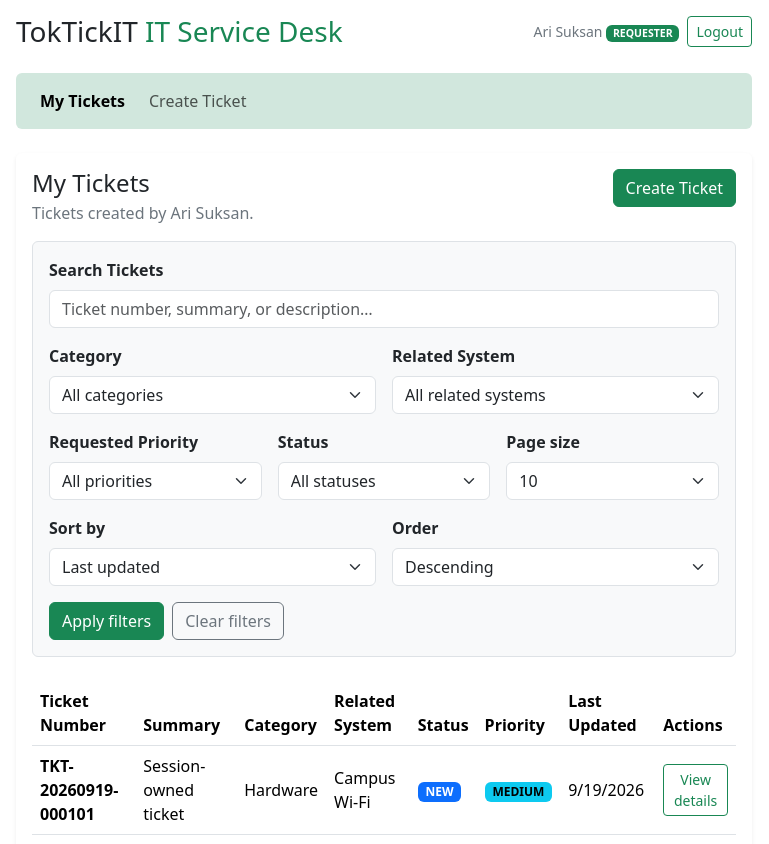
Scenario: Requester authenticated-session regression › passes only ticket identifiers to the detail API after authenticated list navigation
Click the button "View details". click: [696, 790]
box: left=663, top=764, right=728, bottom=816
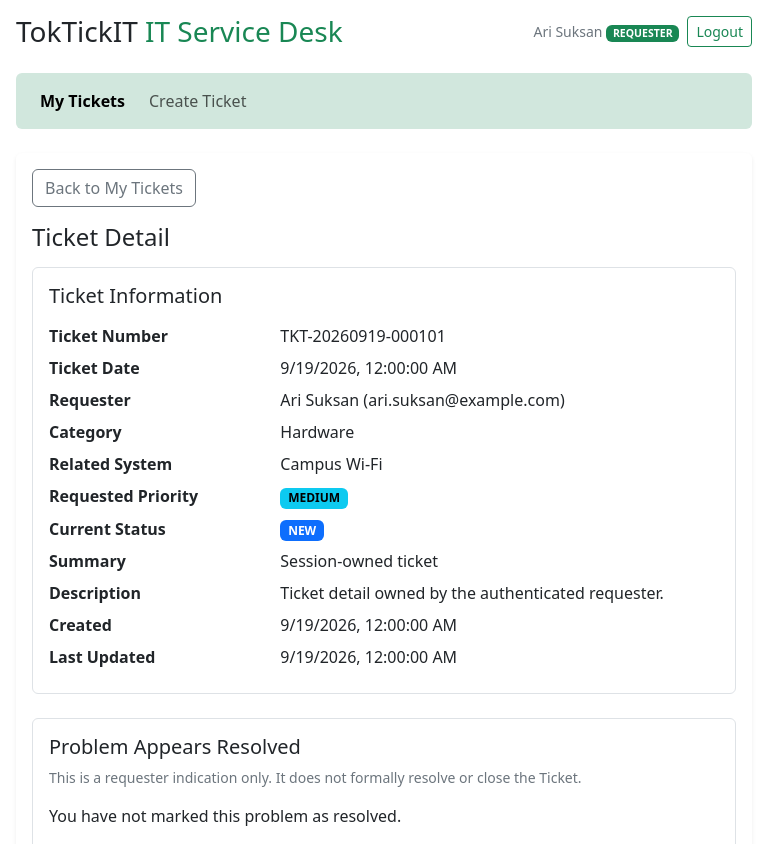
Check: the heading "Ticket Detail" is shown, box left=32, top=220, right=170, bottom=253
